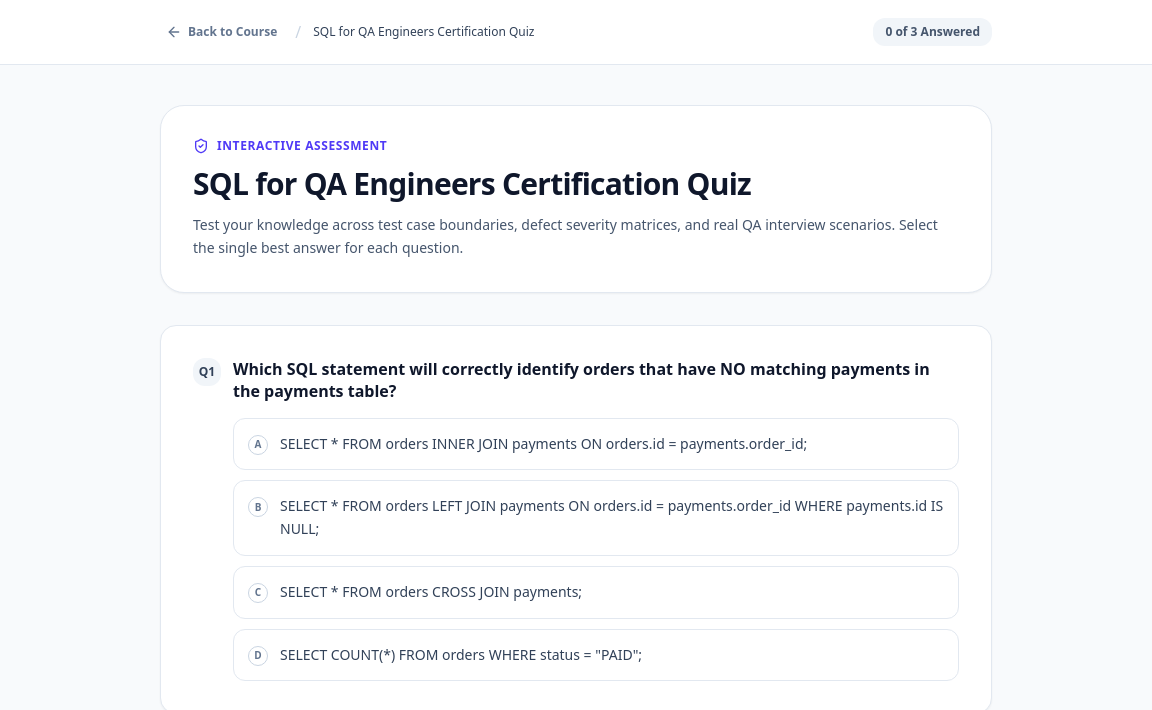
Test case: QuizPage Component (Phase 4) › allows answering questions, submitting, and seeing score with technical explanations
The width and height of the screenshot is (1152, 710).
Answer Q1: option B (LEFT JOIN ... WHERE payments.id IS NULL)
Click the text "SELECT * FROM orders LEFT JOIN payments ON orders.id = payments.order_id WHERE payments.id IS NULL;": (612, 518) x1=280 y1=495 x2=944 y2=541
(page scrolled)
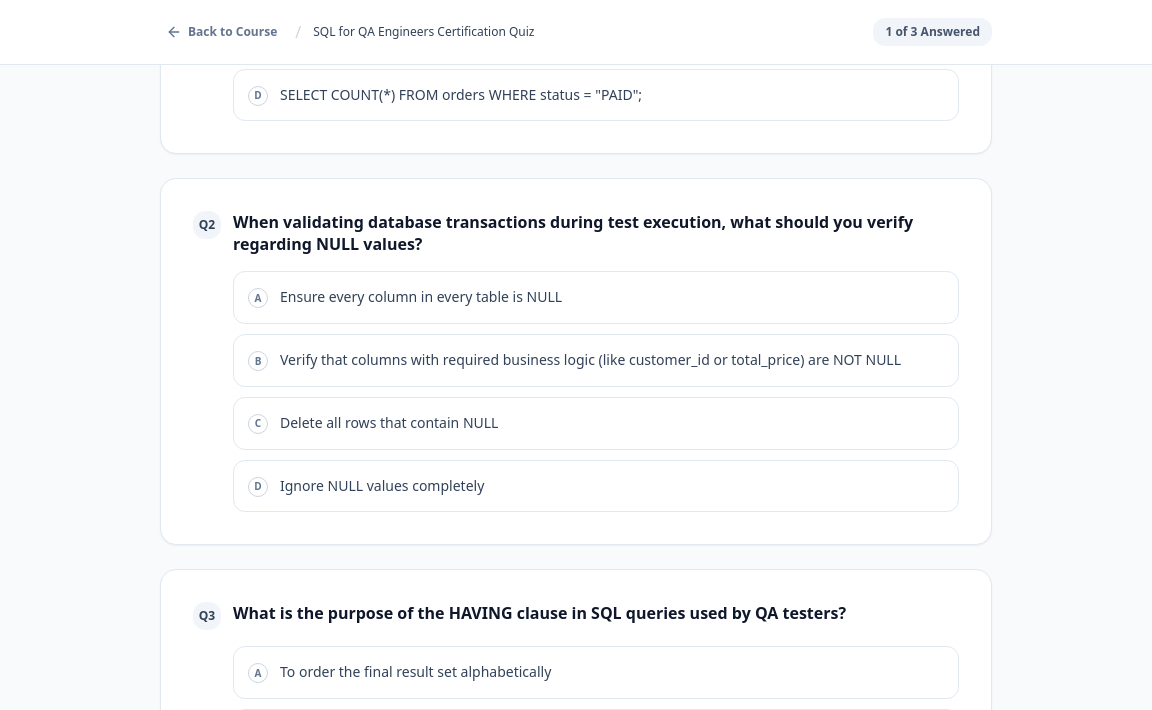
Answer Q2: option B (Verify that columns with required business logic are NOT NULL)
Click the text "Verify that columns with required business logic": (590, 360) x1=280 y1=349 x2=901 y2=372
(page scrolled)
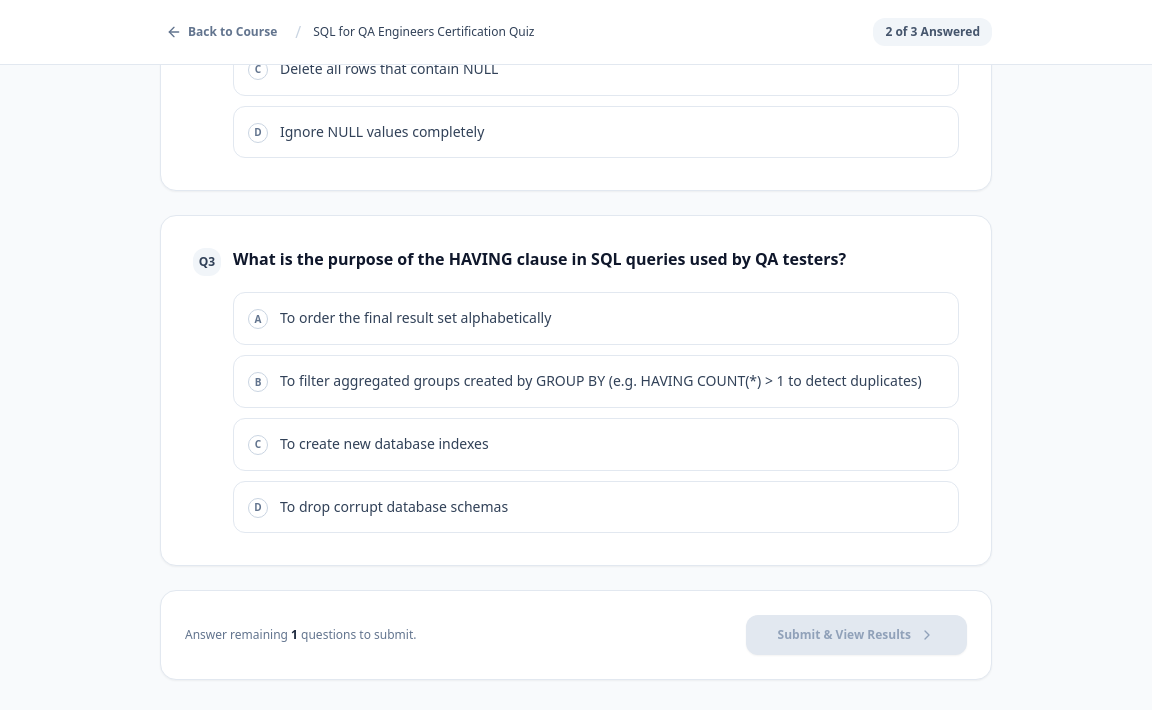
Click the text "To filter aggregated groups created by GROUP BY": (601, 381) x1=280 y1=370 x2=922 y2=393
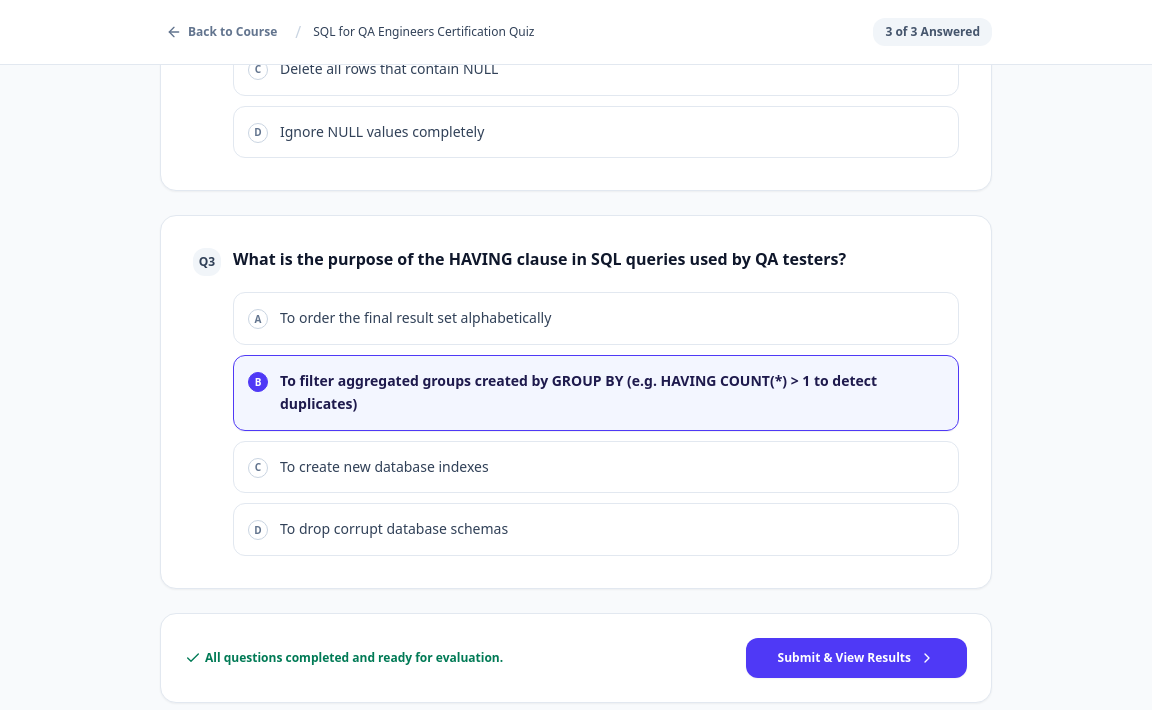
Expected: the text "All questions completed and ready for evaluation." is shown, x1=185 y1=650 x2=503 y2=666
Submit quiz
Click the button "Submit & View Results": (856, 658) x1=746 y1=638 x2=967 y2=678
(page scrolled)
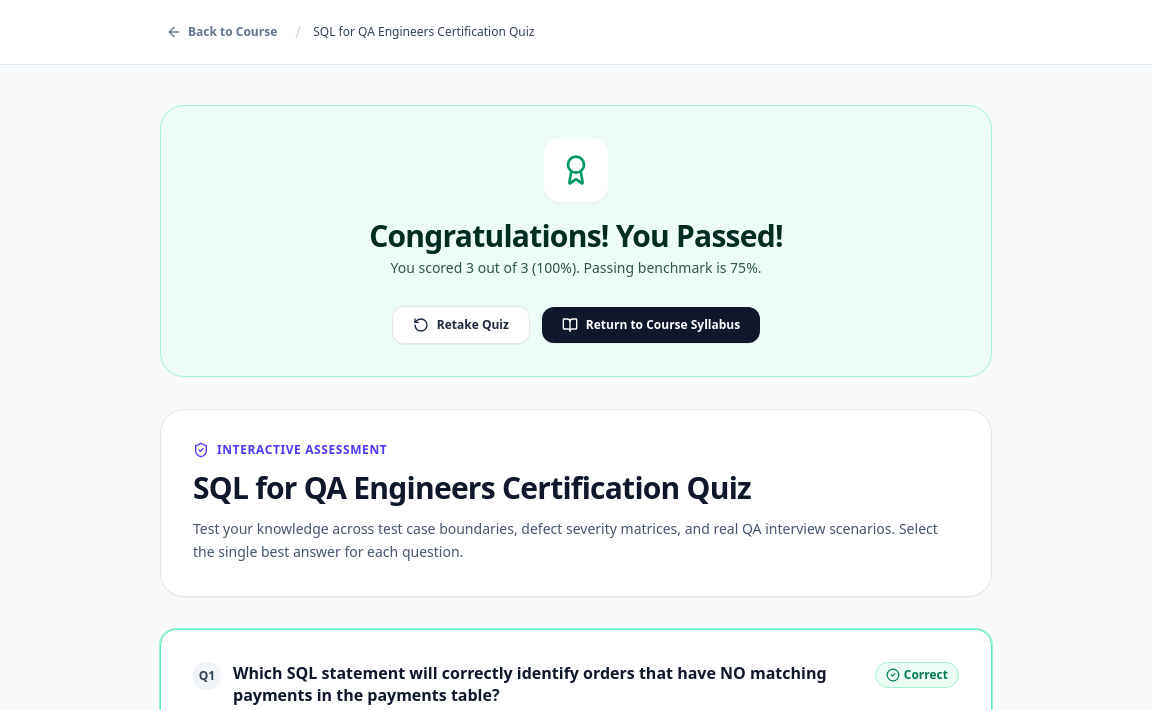
Expected: the heading "Congratulations! You Passed!" is shown, x1=369 y1=215 x2=783 y2=256
Expected: the text "You scored 3 out of 3 (100%). Passing benchmark is 75%." is shown, x1=390 y1=258 x2=762 y2=277
